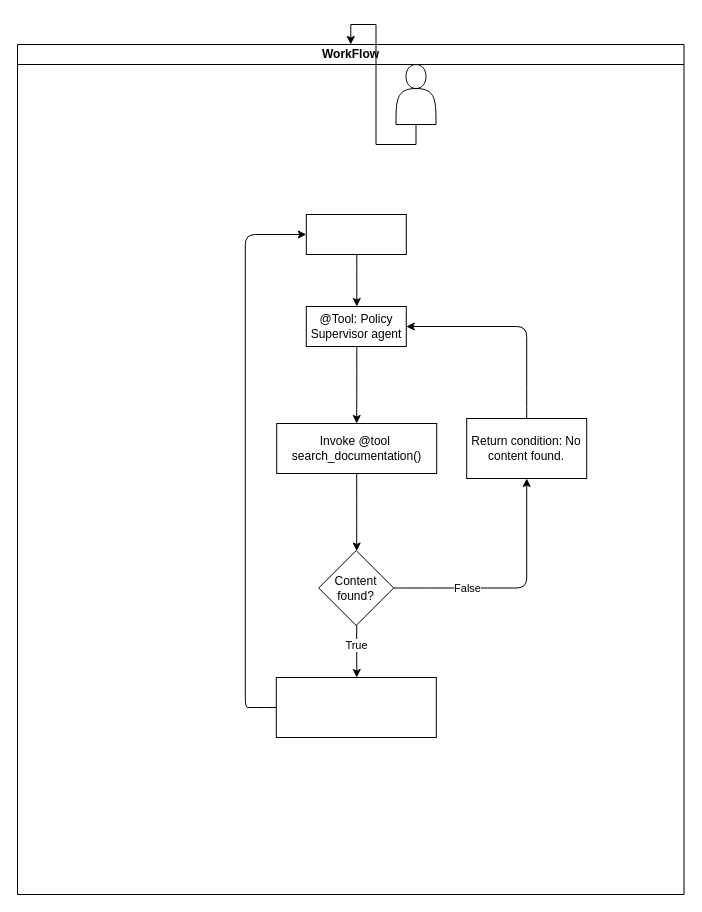
The diagram is 702 pixels wide and 912 high, and some of its shapes have lost their labels. Each missing label, with the box of its shape:
Agent Executor: (305, 214, 406, 254)
Get from chroma formatted_results. Return similarity_search to Executor.: (275, 676, 436, 738)
